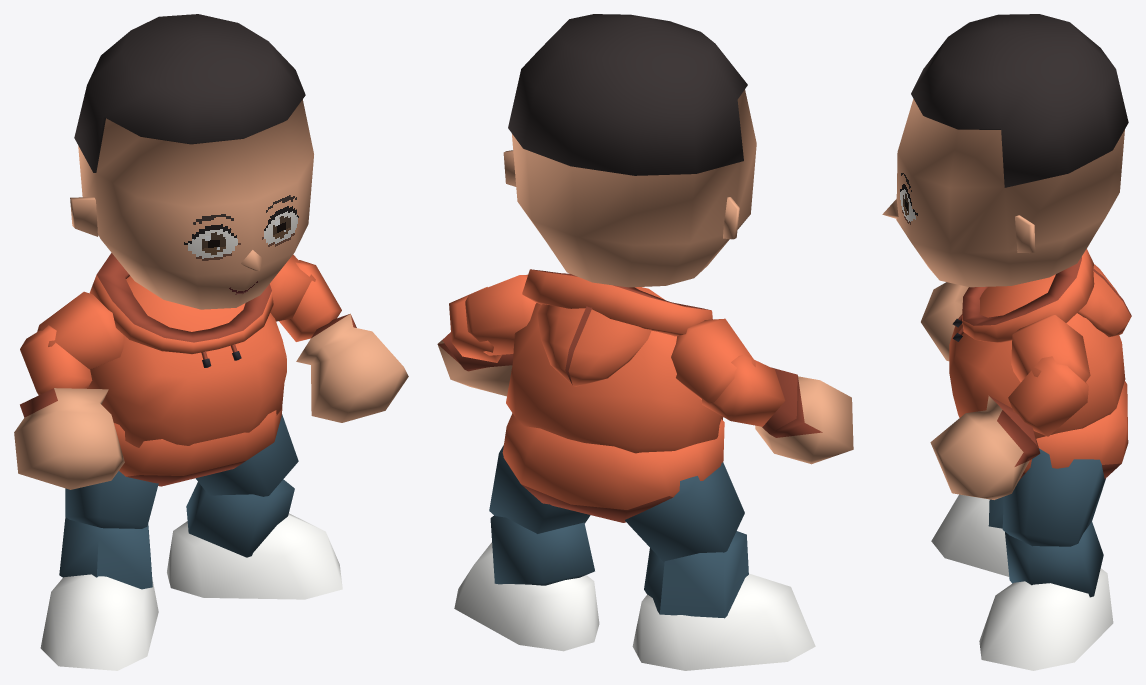
3 views of the same model, side by side, from view 1: azimuth 30°, elevation 25°; view 2: azimuth 150°, elevation 25°; view 3: azimuth 270°, elevation 25° (orthographic). The views are drawn at different scales.
Parts seen in each view (by area): view 1: Character; view 2: Character; view 3: Character.
Boxes of the visible parts, box(x1,y1,x2,y2) form: Character: box(14, 14, 408, 670); Character: box(437, 14, 853, 670); Character: box(882, 14, 1131, 670).
Size of the model in its own units: 1.98 by 2.78 by 1.11.
Materials: 12 (2 with a texture image).
